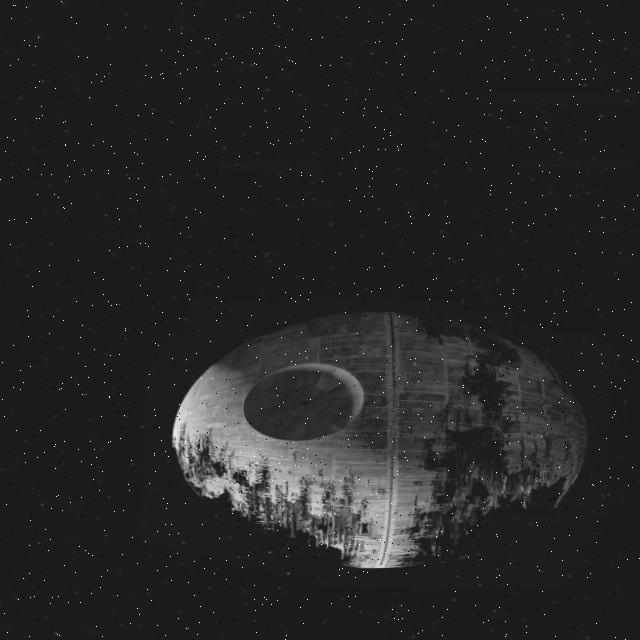deathstar: (173, 310, 593, 566)
